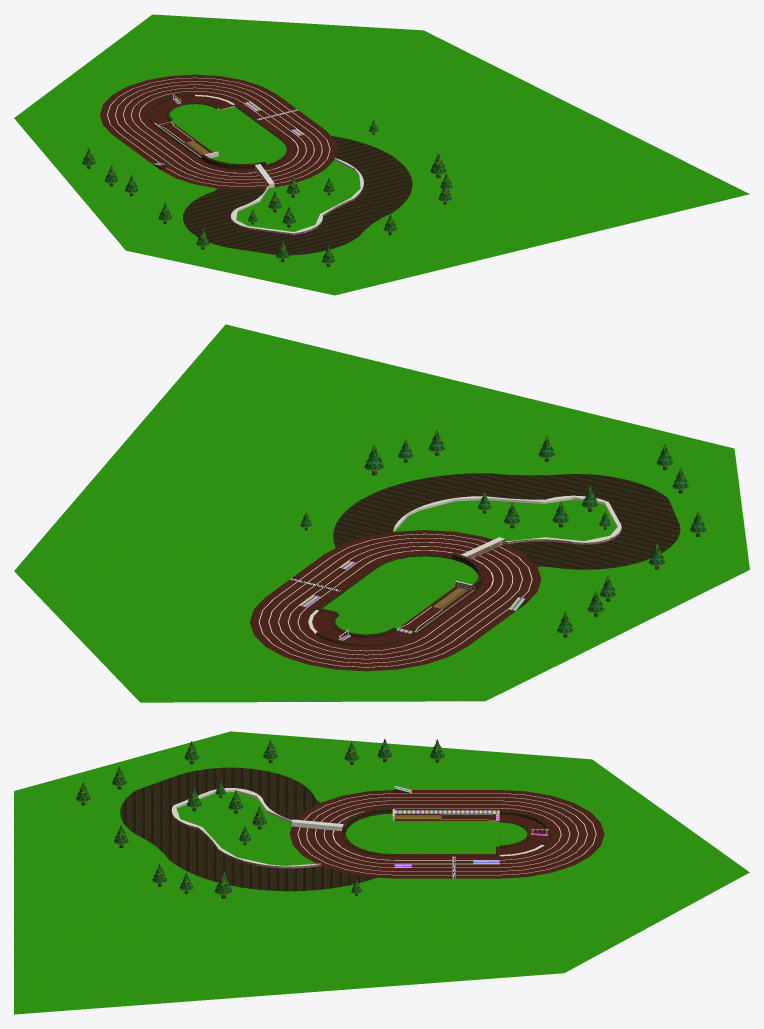
The picture shows the model from 3 angles, top to bottom: view 1: azimuth 30°, elevation 25°; view 2: azimuth 150°, elevation 25°; view 3: azimuth 270°, elevation 25°; orthographic projection. The views are drawn at different scales.
Visible parts, largest first — view 1: Track2_0_Textured9_7-SKP--Material18, Track2_0_Textured9_7-SKP--Material10, Track2_0_Textured9_7-SKP--Wood_Floor, Track2_0_Textured9_7-SKP--Material12, Track2_0_Textured9_7-COM-Wii_Mushroom_Gorge_Tree-5220-Materi, Track2_0_Textured9_7-SKP--Wood_Floor_Dark; view 2: Track2_0_Textured9_7-SKP--Material18, Track2_0_Textured9_7-SKP--Material10, Track2_0_Textured9_7-SKP--Wood_Floor, Track2_0_Textured9_7-SKP--Material12, Track2_0_Textured9_7-COM-Wii_Mushroom_Gorge_Tree-5220-Materi, Track2_0_Textured9_7-SKP--Wood_Floor_Dark, Track2_0_Textured9_7-SKP--Material21; view 3: Track2_0_Textured9_7-SKP--Material18, Track2_0_Textured9_7-SKP--Material10, Track2_0_Textured9_7-SKP--Wood_Floor, Track2_0_Textured9_7-SKP--Material12, Track2_0_Textured9_7-COM-Wii_Mushroom_Gorge_Tree-5220-Materi, Track2_0_Textured9_7-SKP--Wood_Floor_Dark, Track2_0_Textured9_7-SKP--Material16.
Boxes of the visible parts, x1,y1,x2,y2 form: Track2_0_Textured9_7-SKP--Material18: [14, 14, 749, 295]; Track2_0_Textured9_7-SKP--Material10: [100, 74, 337, 189]; Track2_0_Textured9_7-SKP--Wood_Floor: [183, 136, 412, 255]; Track2_0_Textured9_7-SKP--Material12: [107, 77, 363, 233]; Track2_0_Textured9_7-COM-Wii_Mushroom_Gorge_Tree-5220-Materi: [82, 119, 452, 263]; Track2_0_Textured9_7-SKP--Wood_Floor_Dark: [147, 93, 289, 169]; Track2_0_Textured9_7-SKP--Material18: [14, 324, 749, 702]; Track2_0_Textured9_7-SKP--Material10: [250, 530, 541, 671]; Track2_0_Textured9_7-SKP--Wood_Floor: [333, 473, 680, 569]; Track2_0_Textured9_7-SKP--Material12: [258, 495, 621, 667]; Track2_0_Textured9_7-COM-Wii_Mushroom_Gorge_Tree-5220-Materi: [300, 430, 706, 634]; Track2_0_Textured9_7-SKP--Wood_Floor_Dark: [316, 553, 482, 646]; Track2_0_Textured9_7-SKP--Material21: [455, 528, 621, 590]; Track2_0_Textured9_7-SKP--Material18: [14, 731, 749, 1014]; Track2_0_Textured9_7-SKP--Material10: [289, 789, 604, 878]; Track2_0_Textured9_7-SKP--Wood_Floor: [120, 767, 376, 891]; Track2_0_Textured9_7-SKP--Material12: [171, 788, 596, 875]; Track2_0_Textured9_7-COM-Wii_Mushroom_Gorge_Tree-5220-Materi: [76, 739, 444, 894]; Track2_0_Textured9_7-SKP--Wood_Floor_Dark: [342, 807, 551, 856]; Track2_0_Textured9_7-SKP--Material16: [394, 785, 547, 867].
Bounding box in the file's own units: 76588 × 3527 × 84123.
14 materials, 13 textured.
